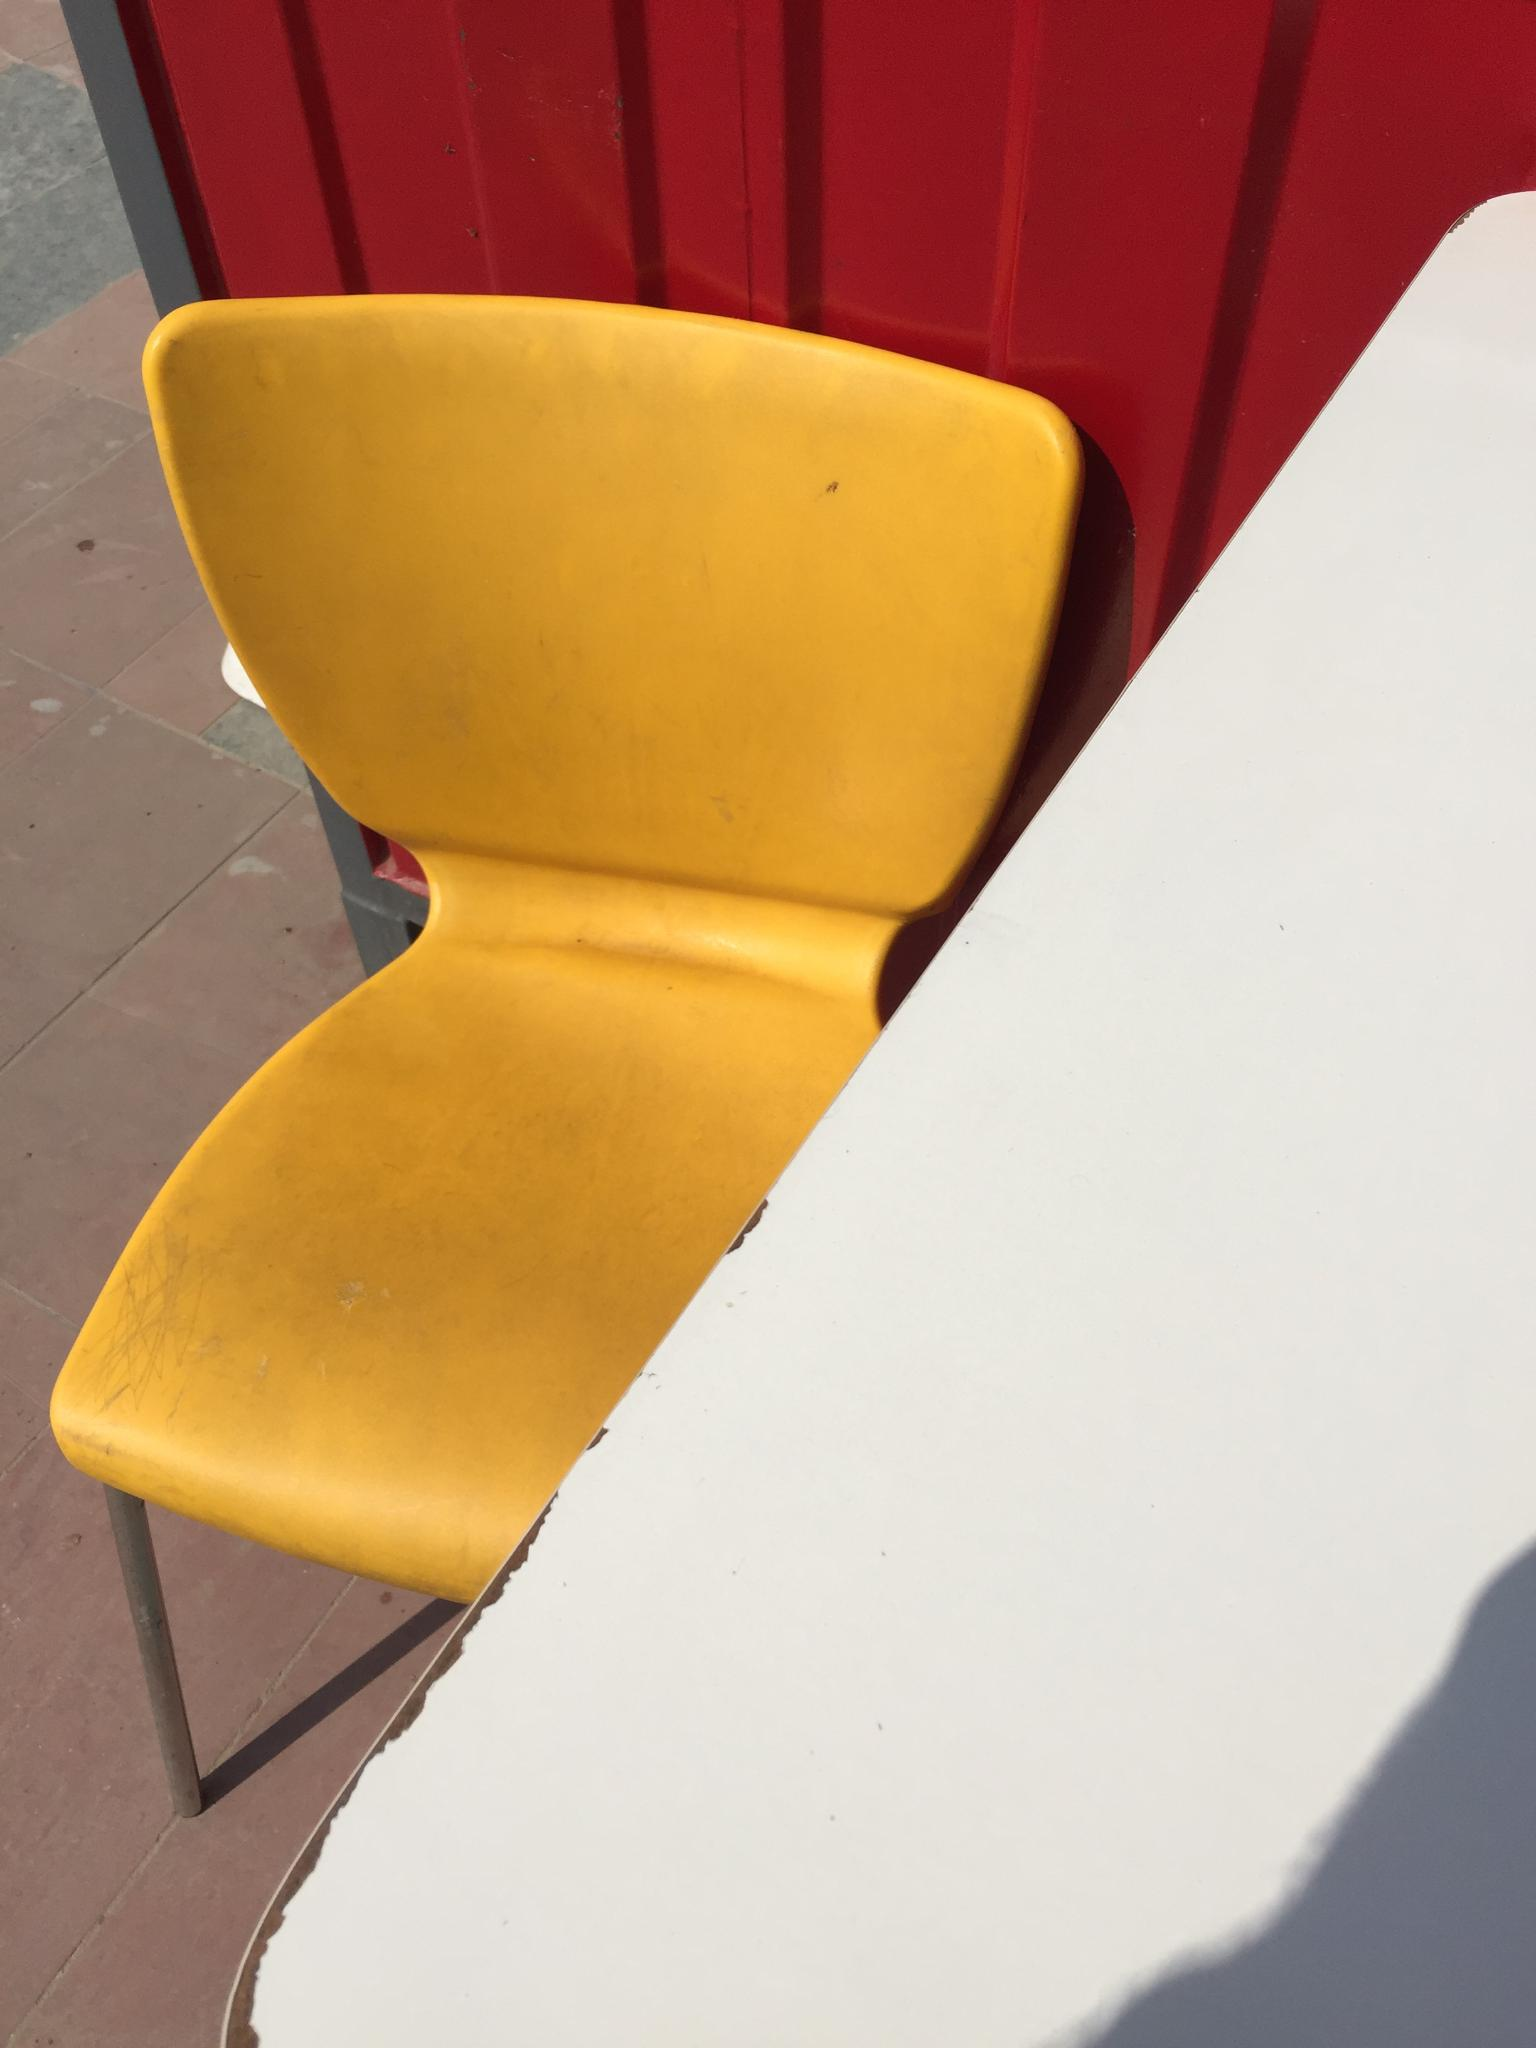chair: (47, 285, 1091, 1816)
